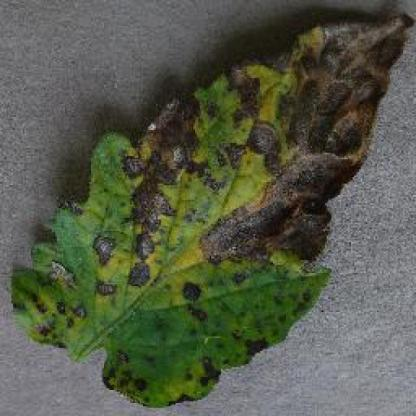Strawberry_Angular_LeafSpot: (137, 102, 199, 216), (312, 39, 374, 152), (207, 204, 288, 265), (247, 125, 288, 160), (130, 230, 152, 286)
